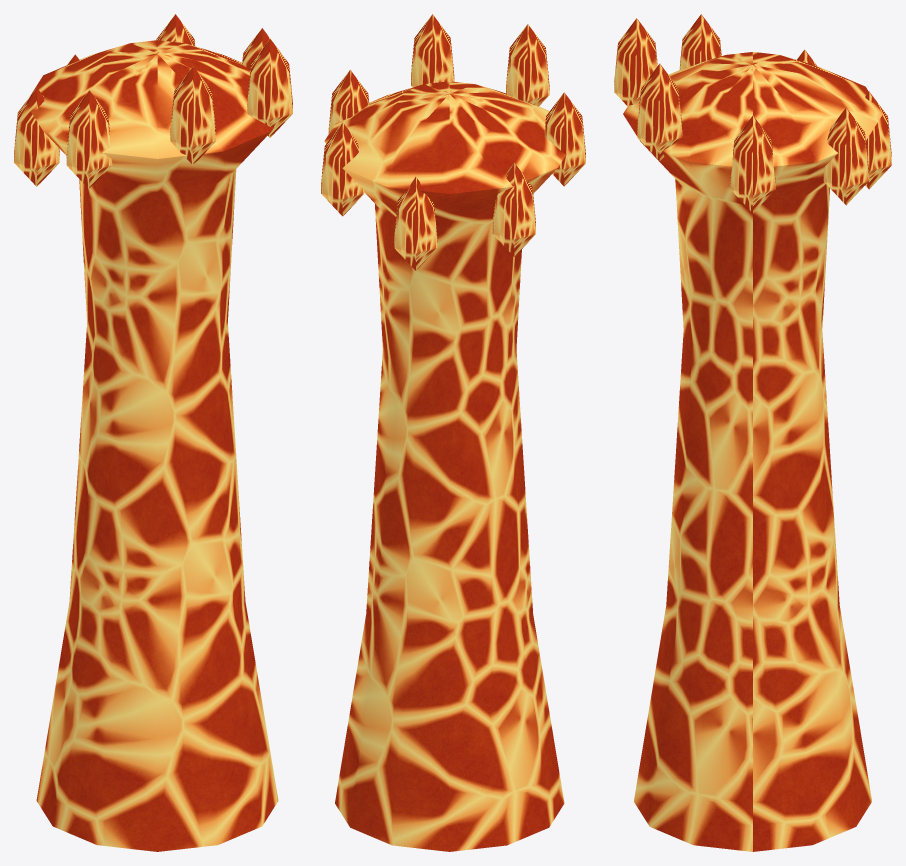
File: tb_geyser.glb
3 renders of one model, left to right at view 1: azimuth 30°, elevation 25°; view 2: azimuth 150°, elevation 25°; view 3: azimuth 270°, elevation 25°, orthographic. The views are drawn at different scales.
Visible parts, largest first — view 1: tb_geyser; view 2: tb_geyser; view 3: tb_geyser.
Part boxes in pixels (left/top/right/bottom): tb_geyser: left=14, top=14, right=292, bottom=851; tb_geyser: left=321, top=14, right=585, bottom=851; tb_geyser: left=614, top=14, right=891, bottom=851.
Bounding box in the file's own units: 1.29 × 3.93 × 1.28.
1 material, 1 textured.
